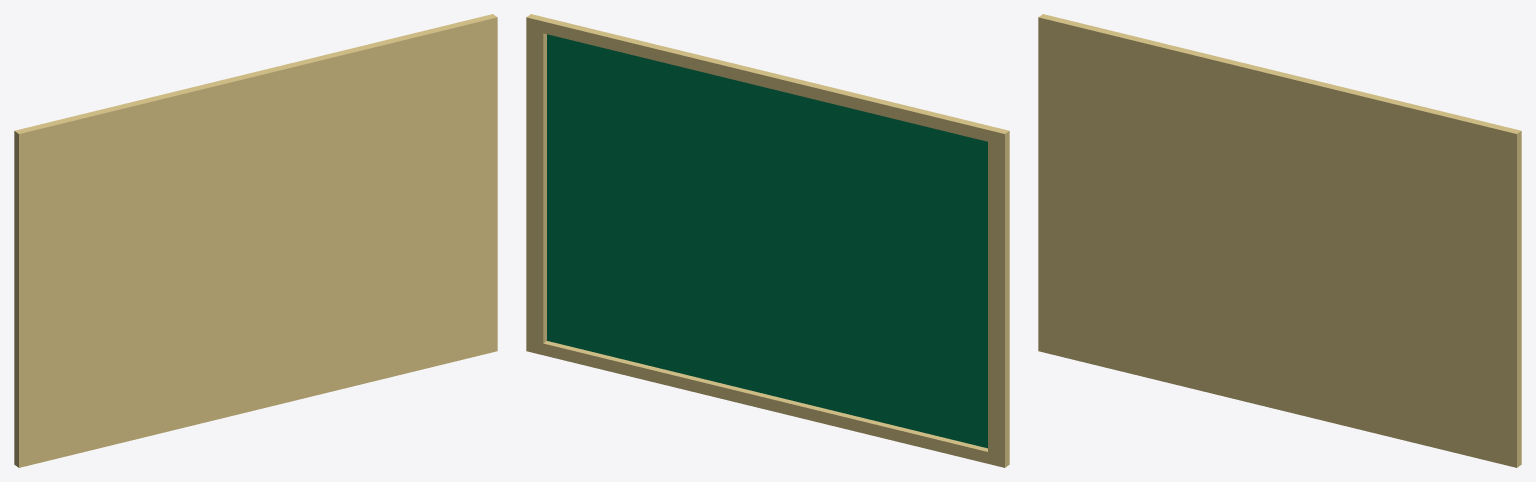
File: blackboard.fbx
3 views of the same model, side by side, from view 1: azimuth 30°, elevation 25°; view 2: azimuth 150°, elevation 25°; view 3: azimuth 330°, elevation 25° (orthographic).
Parts seen in each view (by area): view 1: Blackboard; view 2: Blackboard; view 3: Blackboard.
Boxes of the visible parts, <box> form: Blackboard: <box>14,14,497,467</box>; Blackboard: <box>526,14,1009,467</box>; Blackboard: <box>1038,14,1521,467</box>.
Size of the model in its own units: 300 by 200 by 5.
